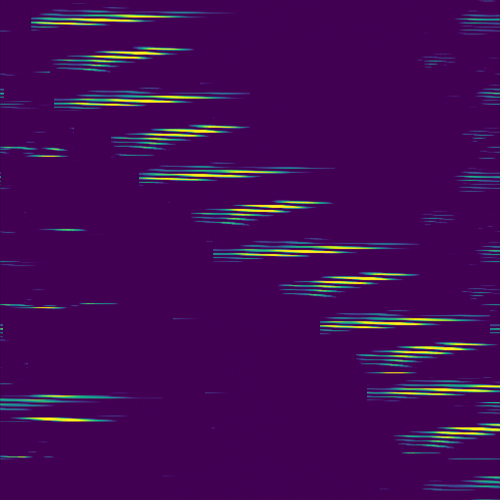semblance: (364, 340, 489, 375), (113, 119, 243, 150), (66, 41, 185, 74), (57, 90, 212, 113), (300, 269, 413, 299), (31, 7, 179, 29), (316, 312, 457, 334), (214, 197, 323, 225), (139, 166, 283, 184), (232, 242, 380, 259), (412, 419, 500, 445), (383, 383, 500, 397)
